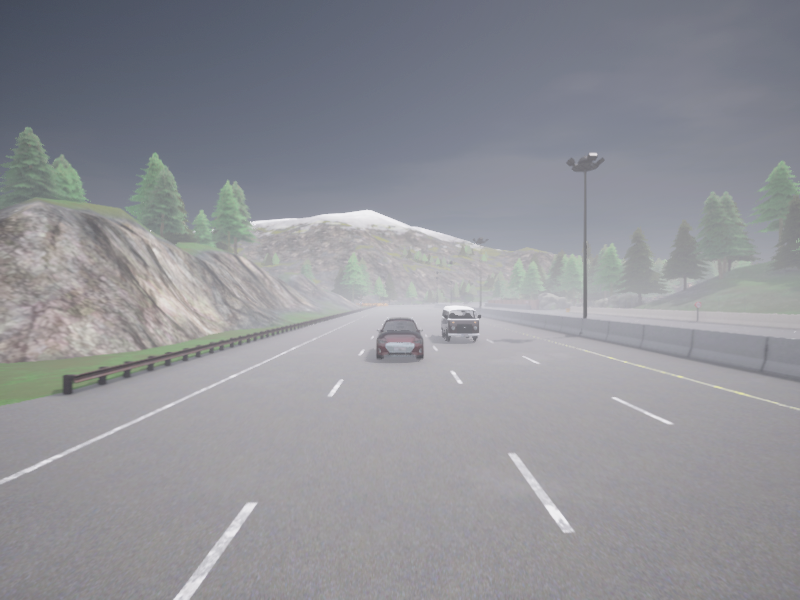vehicle: (376, 317, 423, 359), (441, 306, 480, 341), (465, 302, 469, 304)
